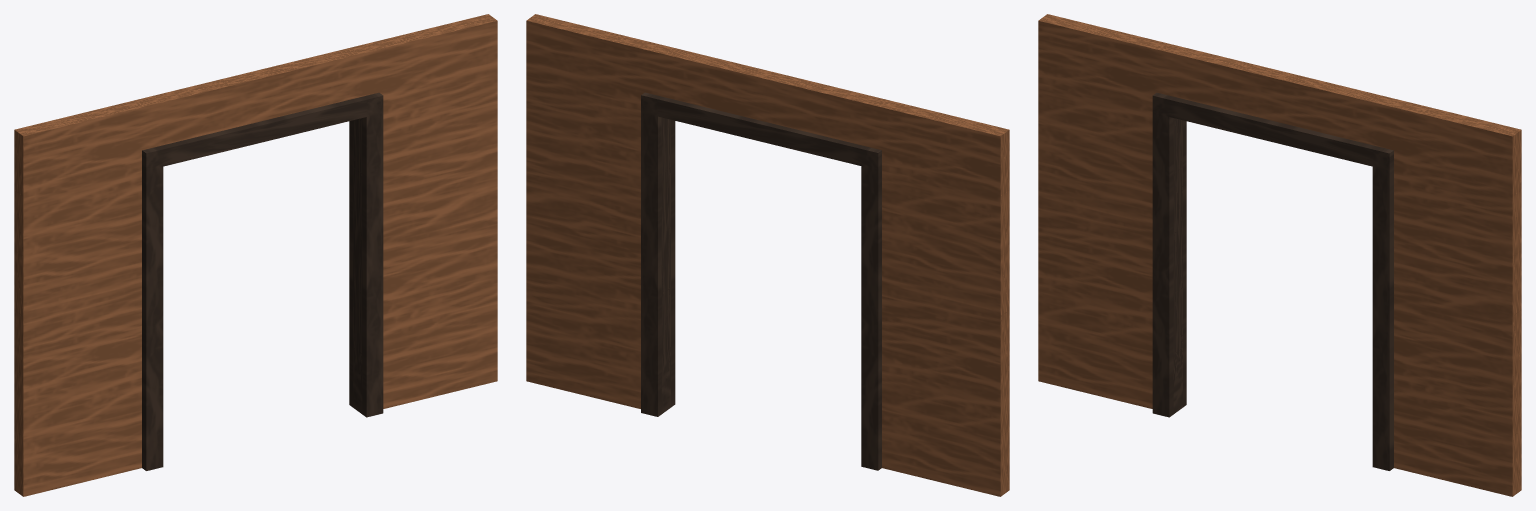
File: BasicDoorFrame.fbx
The picture shows the model from 3 angles, left to right: view 1: azimuth 30°, elevation 25°; view 2: azimuth 150°, elevation 25°; view 3: azimuth 330°, elevation 25°; orthographic projection.
Parts seen in each view (by area): view 1: BasicDoorFrame; view 2: BasicDoorFrame; view 3: BasicDoorFrame.
Part boxes in pixels (x1,y1,x2,y2): BasicDoorFrame: [14, 14, 497, 496]; BasicDoorFrame: [526, 14, 1009, 496]; BasicDoorFrame: [1038, 14, 1521, 496].
Bounding box in the file's own units: 330 × 240 × 20.82.
